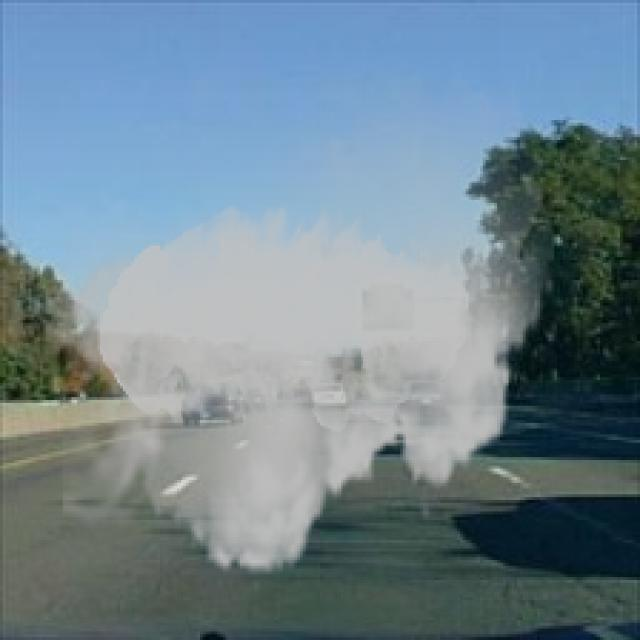smoke: (29, 51, 554, 594)
